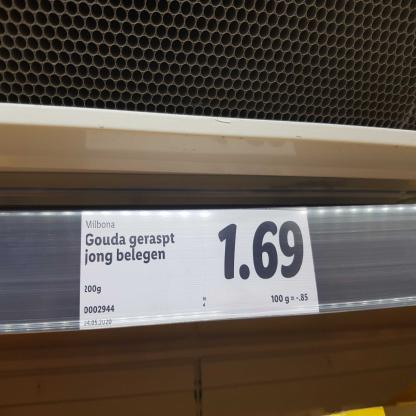prtg: (80, 208, 320, 330)
